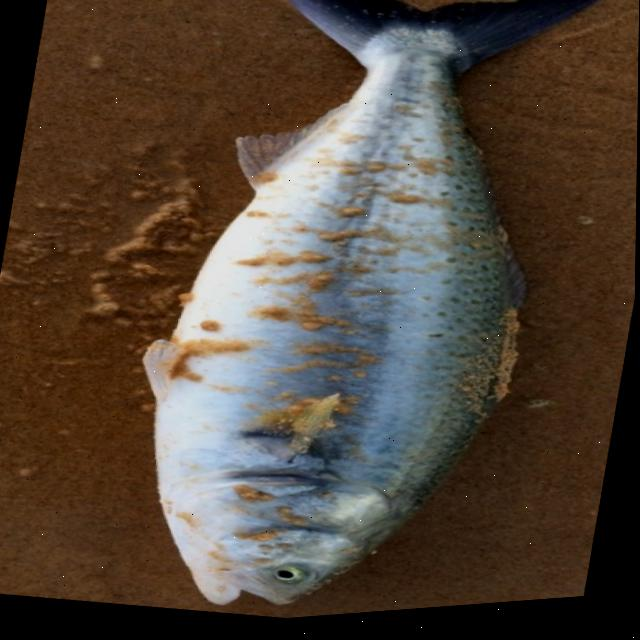Australian Salmon: (65, 0, 640, 636)
